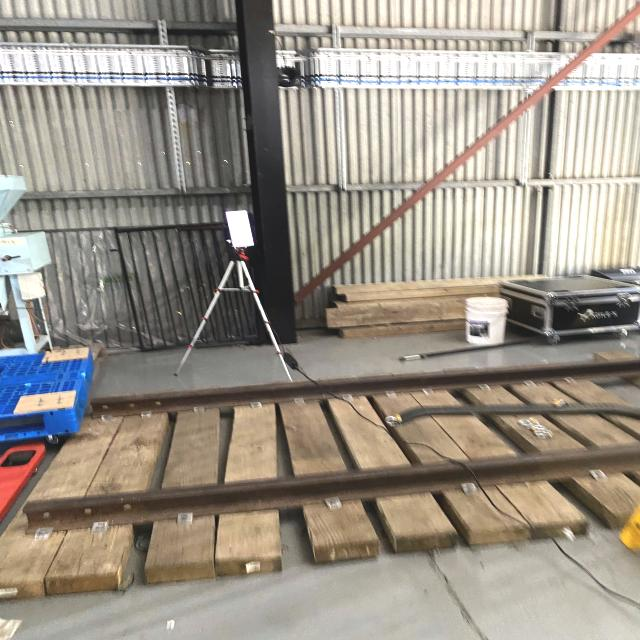matrix: (218, 205, 262, 253)
